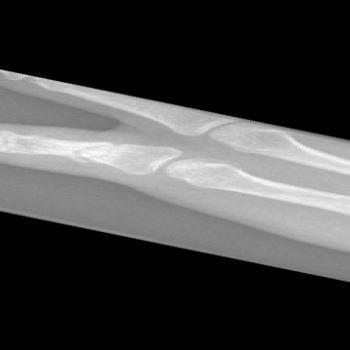Fracture: (65, 135, 128, 170)
